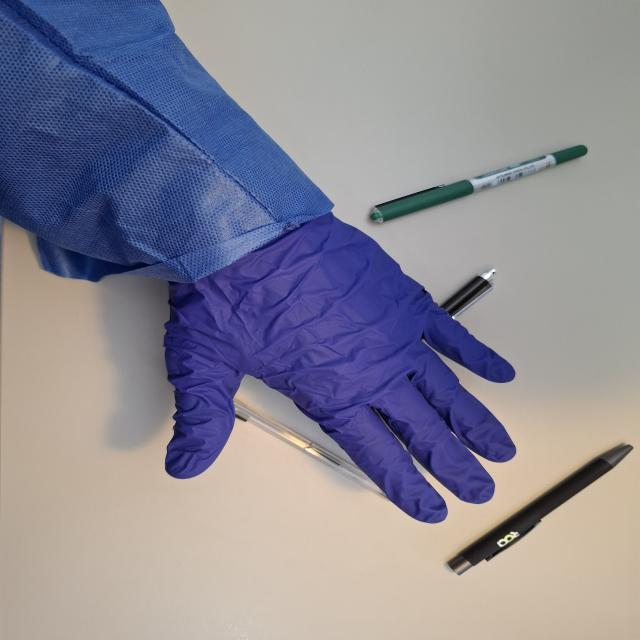glove_on: (160, 211, 520, 525)
